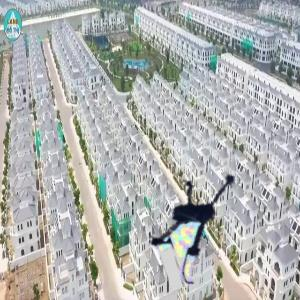drone: (139, 153, 265, 279)
